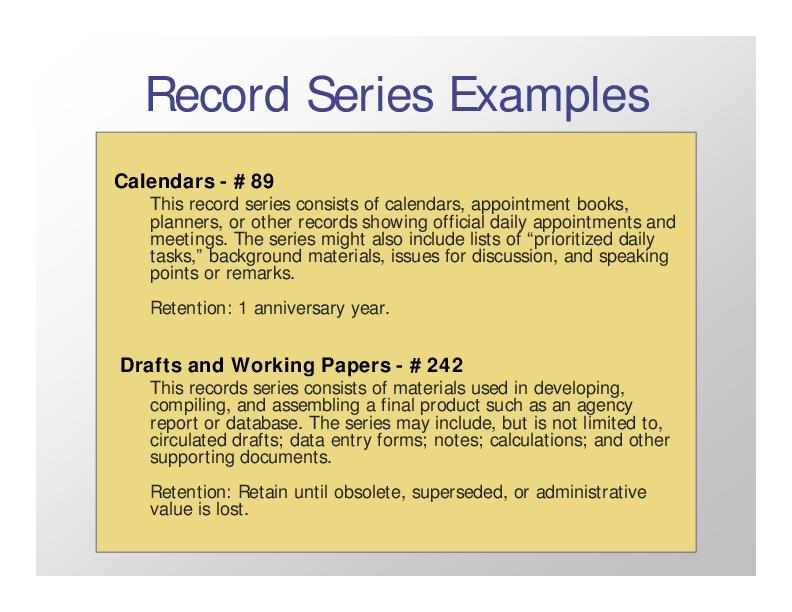paragraph: (141, 375, 688, 538), (139, 192, 690, 334)
subtitle: (114, 346, 468, 378), (108, 163, 282, 198)
title: (137, 63, 662, 128)
